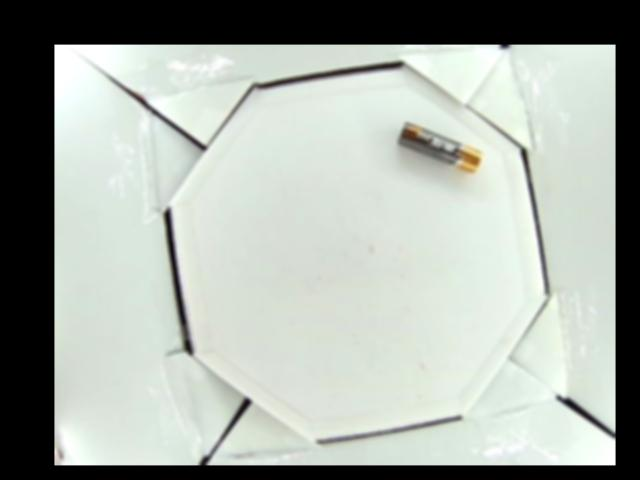Battery: (398, 121, 484, 172)
